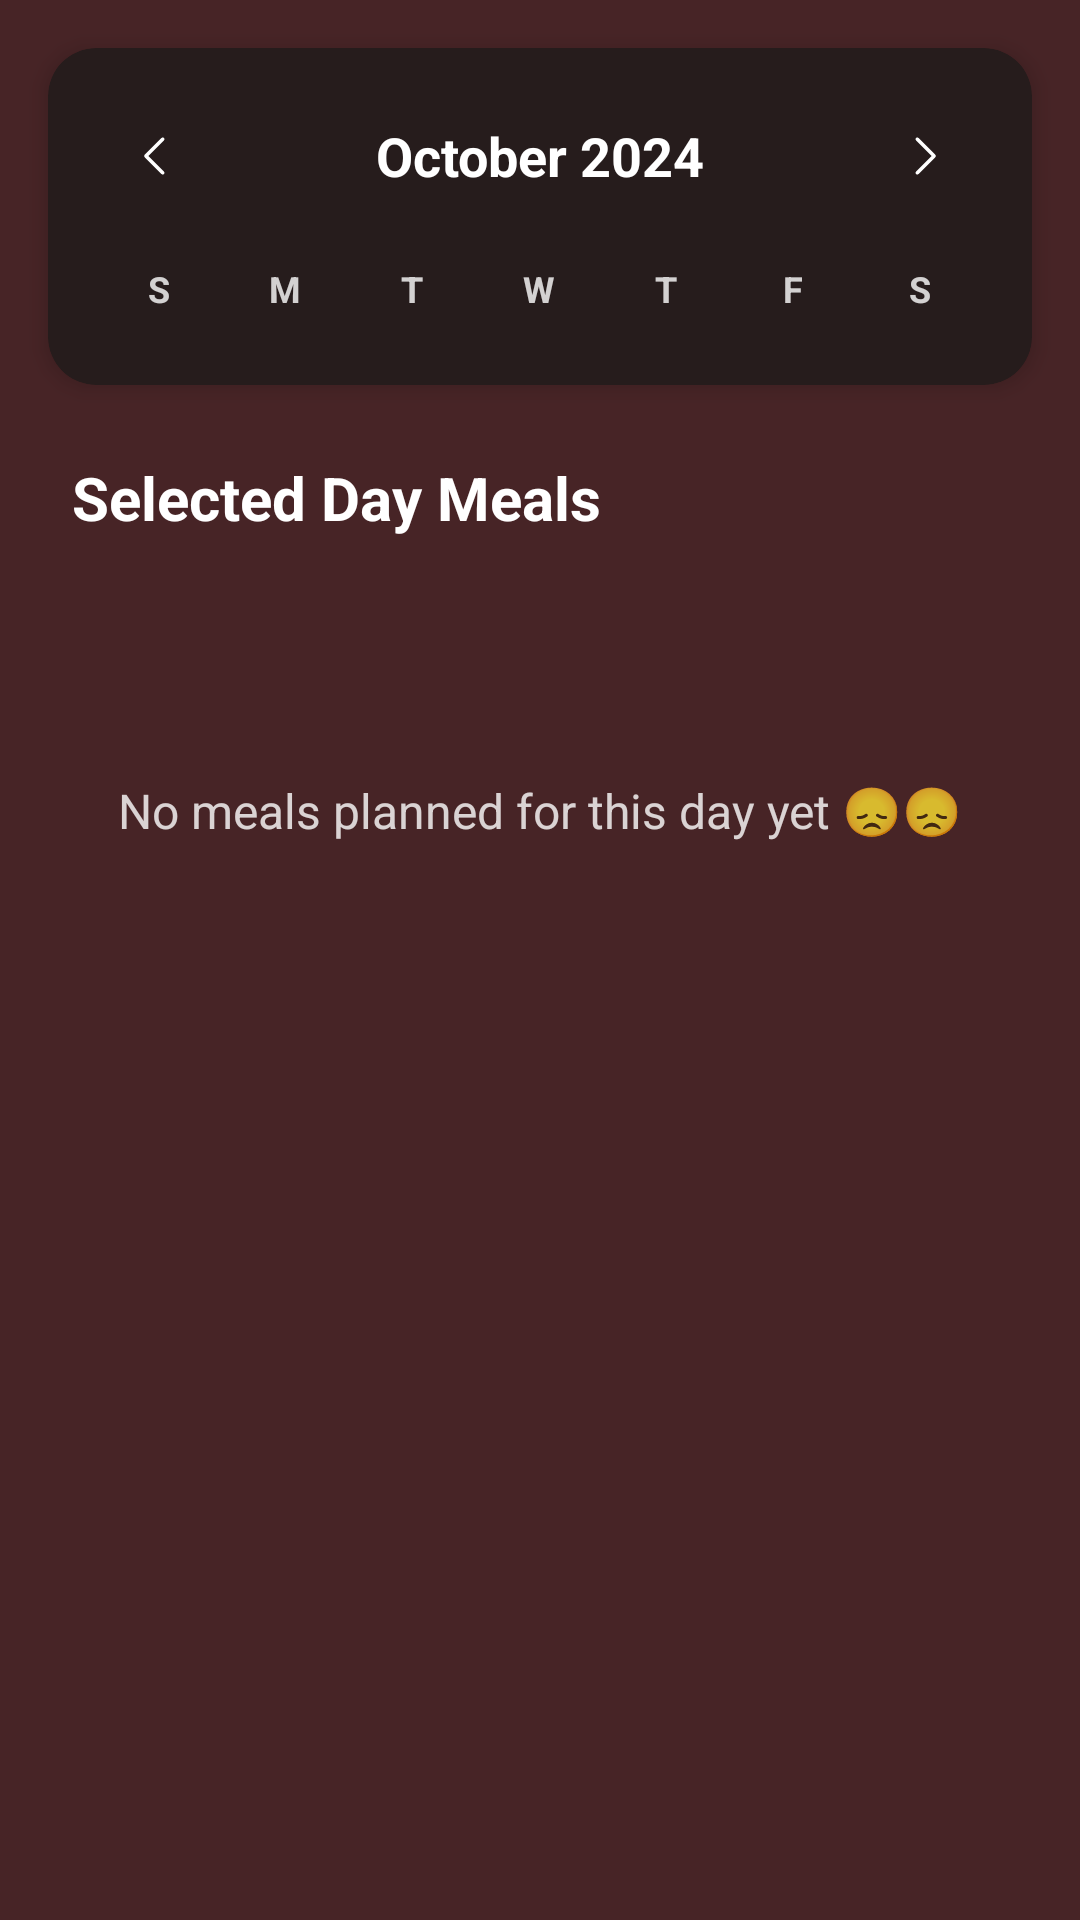

Where icons sit on this 1080w x 1920h app screen, as {"x1": x1, "y1": y1, "x2": x2, "y2": y2}:
next month: {"x1": 915, "y1": 137, "x2": 936, "y2": 175}
prev month: {"x1": 144, "y1": 137, "x2": 165, "y2": 175}
